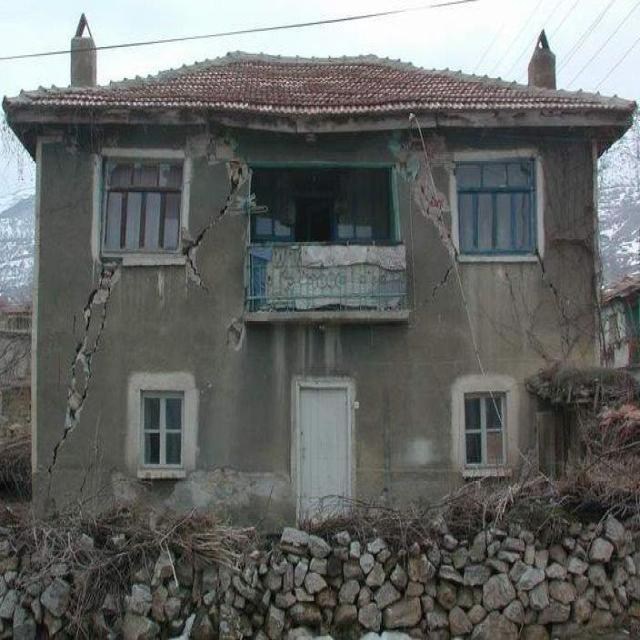damage: (0, 474, 640, 640), (54, 262, 128, 480), (384, 132, 467, 288), (171, 161, 259, 297), (512, 242, 589, 345)
